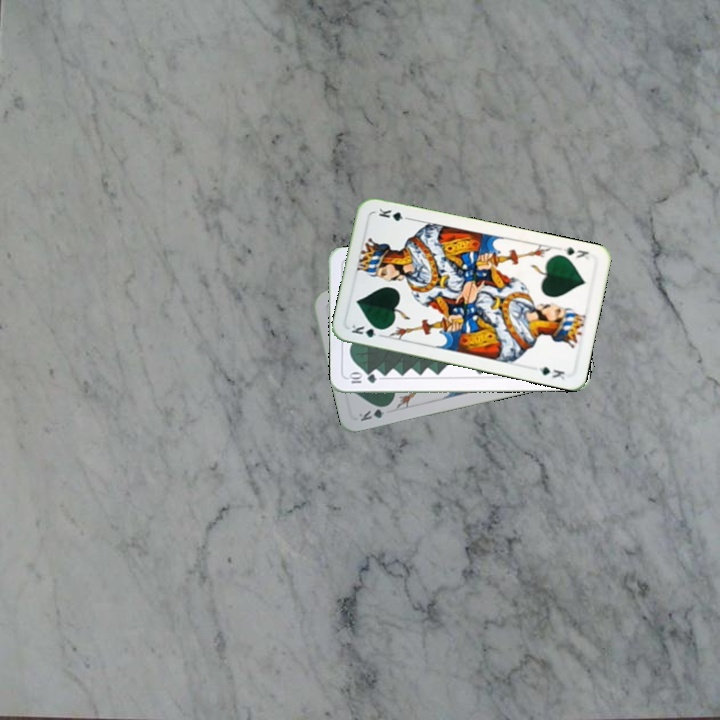G10: (345, 370, 379, 386)
GK: (355, 401, 393, 424), (347, 320, 387, 340), (559, 243, 591, 262)
